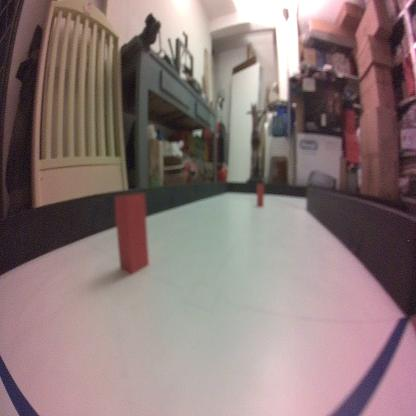red: (113, 190, 150, 275), (257, 182, 263, 207)
